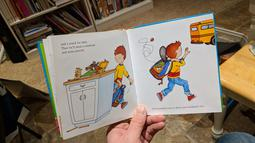text block: (57, 39, 98, 56), (147, 103, 208, 110)
